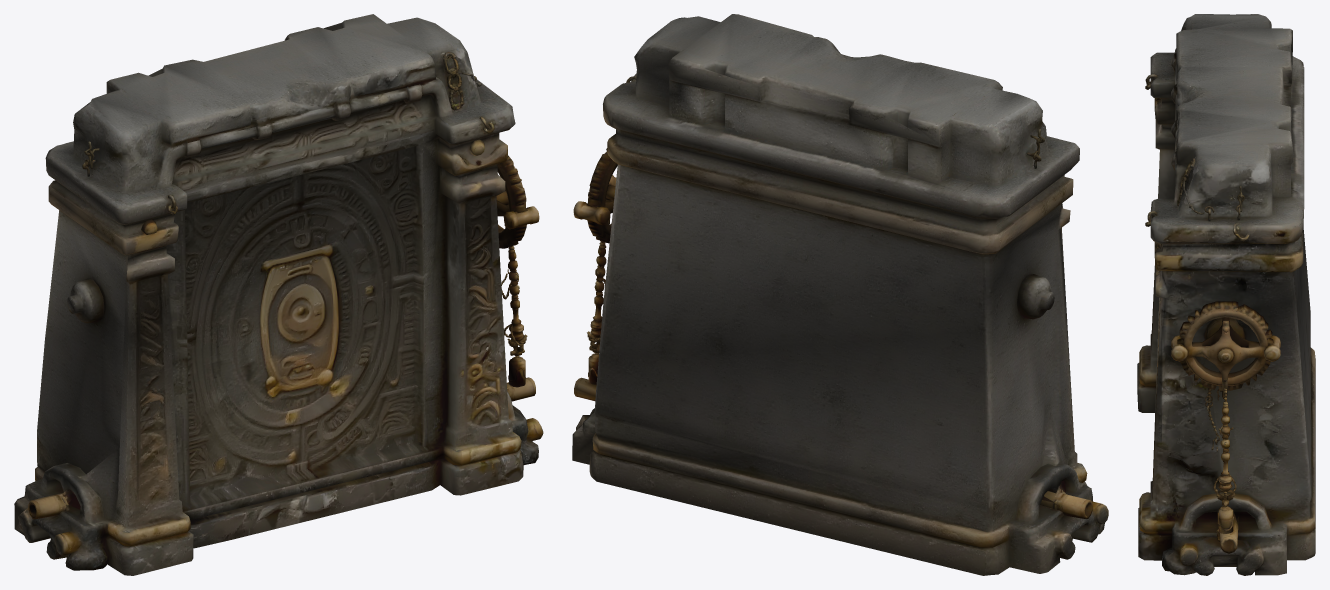
The model's file is ch6_sluice_gate_LOD0.glb.
3 views of the same model, side by side, from view 1: azimuth 30°, elevation 25°; view 2: azimuth 150°, elevation 25°; view 3: azimuth 270°, elevation 25° (orthographic). The views are drawn at different scales.
Visible parts, largest first — view 1: tripo_node_174d5530-f8be-48f6-bdd4-5b4818296782; view 2: tripo_node_174d5530-f8be-48f6-bdd4-5b4818296782; view 3: tripo_node_174d5530-f8be-48f6-bdd4-5b4818296782.
Part boxes in pixels (x1=…): tripo_node_174d5530-f8be-48f6-bdd4-5b4818296782: x1=14, y1=14, x2=543, y2=575; tripo_node_174d5530-f8be-48f6-bdd4-5b4818296782: x1=572, y1=14, x2=1108, y2=575; tripo_node_174d5530-f8be-48f6-bdd4-5b4818296782: x1=1137, y1=14, x2=1315, y2=575.
Bounding box in the file's own units: 0.998 × 0.8066 × 0.3379.
Materials: 1 (1 with a texture image).
